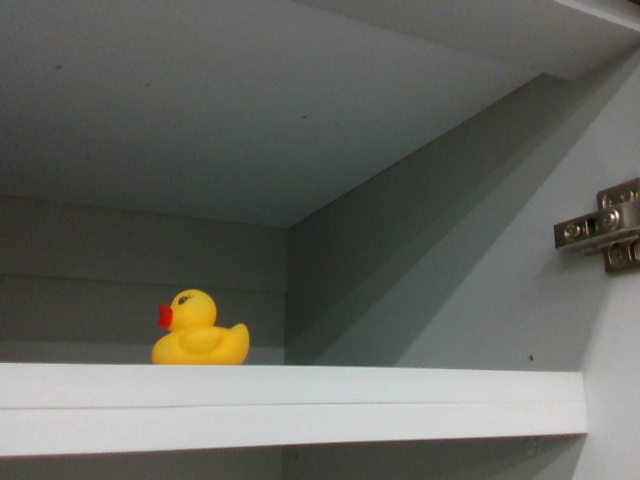duck: (145, 275, 253, 368)
